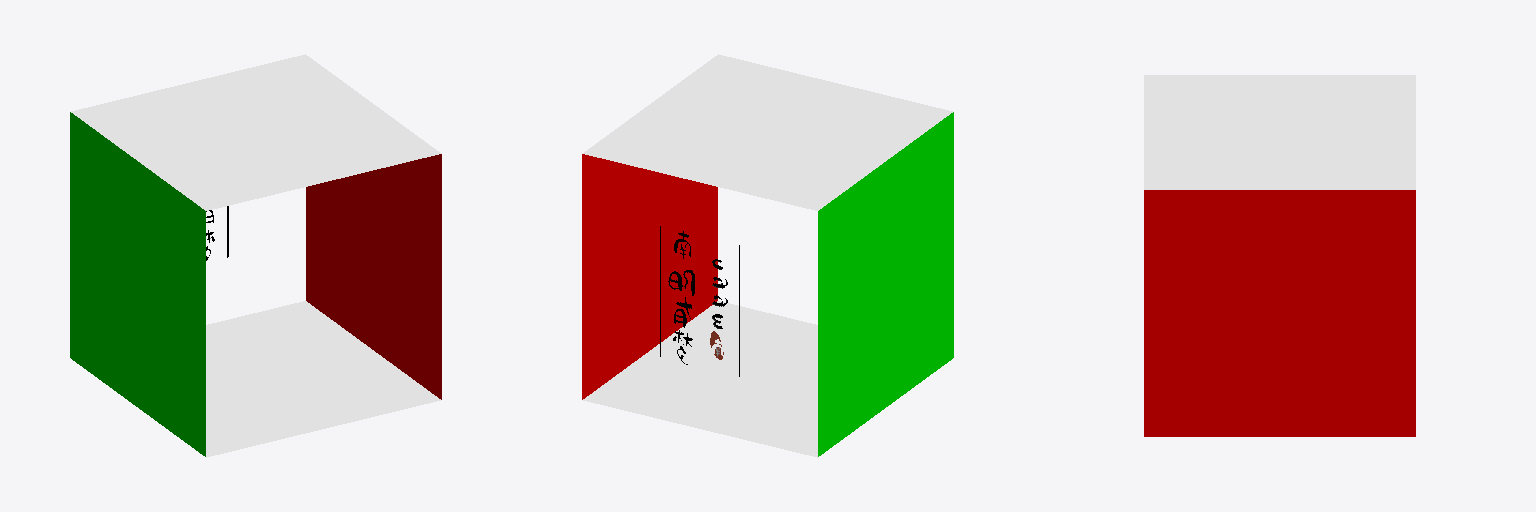
The picture shows the model from 3 angles: view 1: azimuth 30°, elevation 25°; view 2: azimuth 150°, elevation 25°; view 3: azimuth 270°, elevation 25°; orthographic projection.
Parts seen in each view (by area): view 1: Plane.004_Plane.005, Plane.001_Plane.006, Plane.003_Plane.004, Plane.002_Plane.003; view 2: Plane.004_Plane.005, Plane.001_Plane.006, Plane.003_Plane.004, Plane.002_Plane.003, Plane; view 3: Plane.003_Plane.004, Plane.001_Plane.006.
Part boxes in pixels (left/top/right/bottom): Plane.004_Plane.005: left=70, top=112, right=205, bottom=456; Plane.001_Plane.006: left=71, top=54, right=440, bottom=210; Plane.003_Plane.004: left=306, top=154, right=441, bottom=399; Plane.002_Plane.003: left=206, top=301, right=440, bottom=457; Plane.004_Plane.005: left=818, top=112, right=953, bottom=456; Plane.001_Plane.006: left=583, top=54, right=952, bottom=210; Plane.003_Plane.004: left=582, top=154, right=717, bottom=399; Plane.002_Plane.003: left=583, top=301, right=817, bottom=457; Plane: left=660, top=226, right=739, bottom=376; Plane.003_Plane.004: left=1144, top=190, right=1415, bottom=436; Plane.001_Plane.006: left=1144, top=75, right=1415, bottom=189.
Bounding box in the file's own units: 1 × 1 × 1.
4 materials, 1 textured.